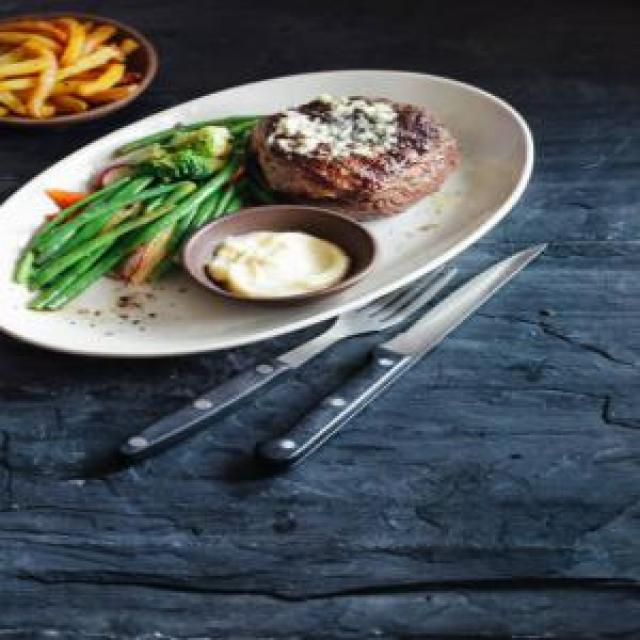knife: (254, 241, 552, 475)
